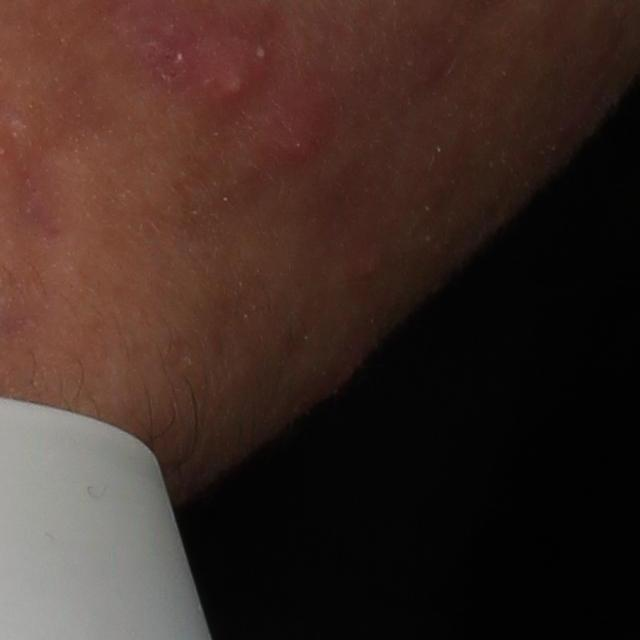papule: (295, 346, 375, 421), (261, 106, 347, 169), (412, 40, 454, 92)
pustule: (186, 36, 287, 116)
